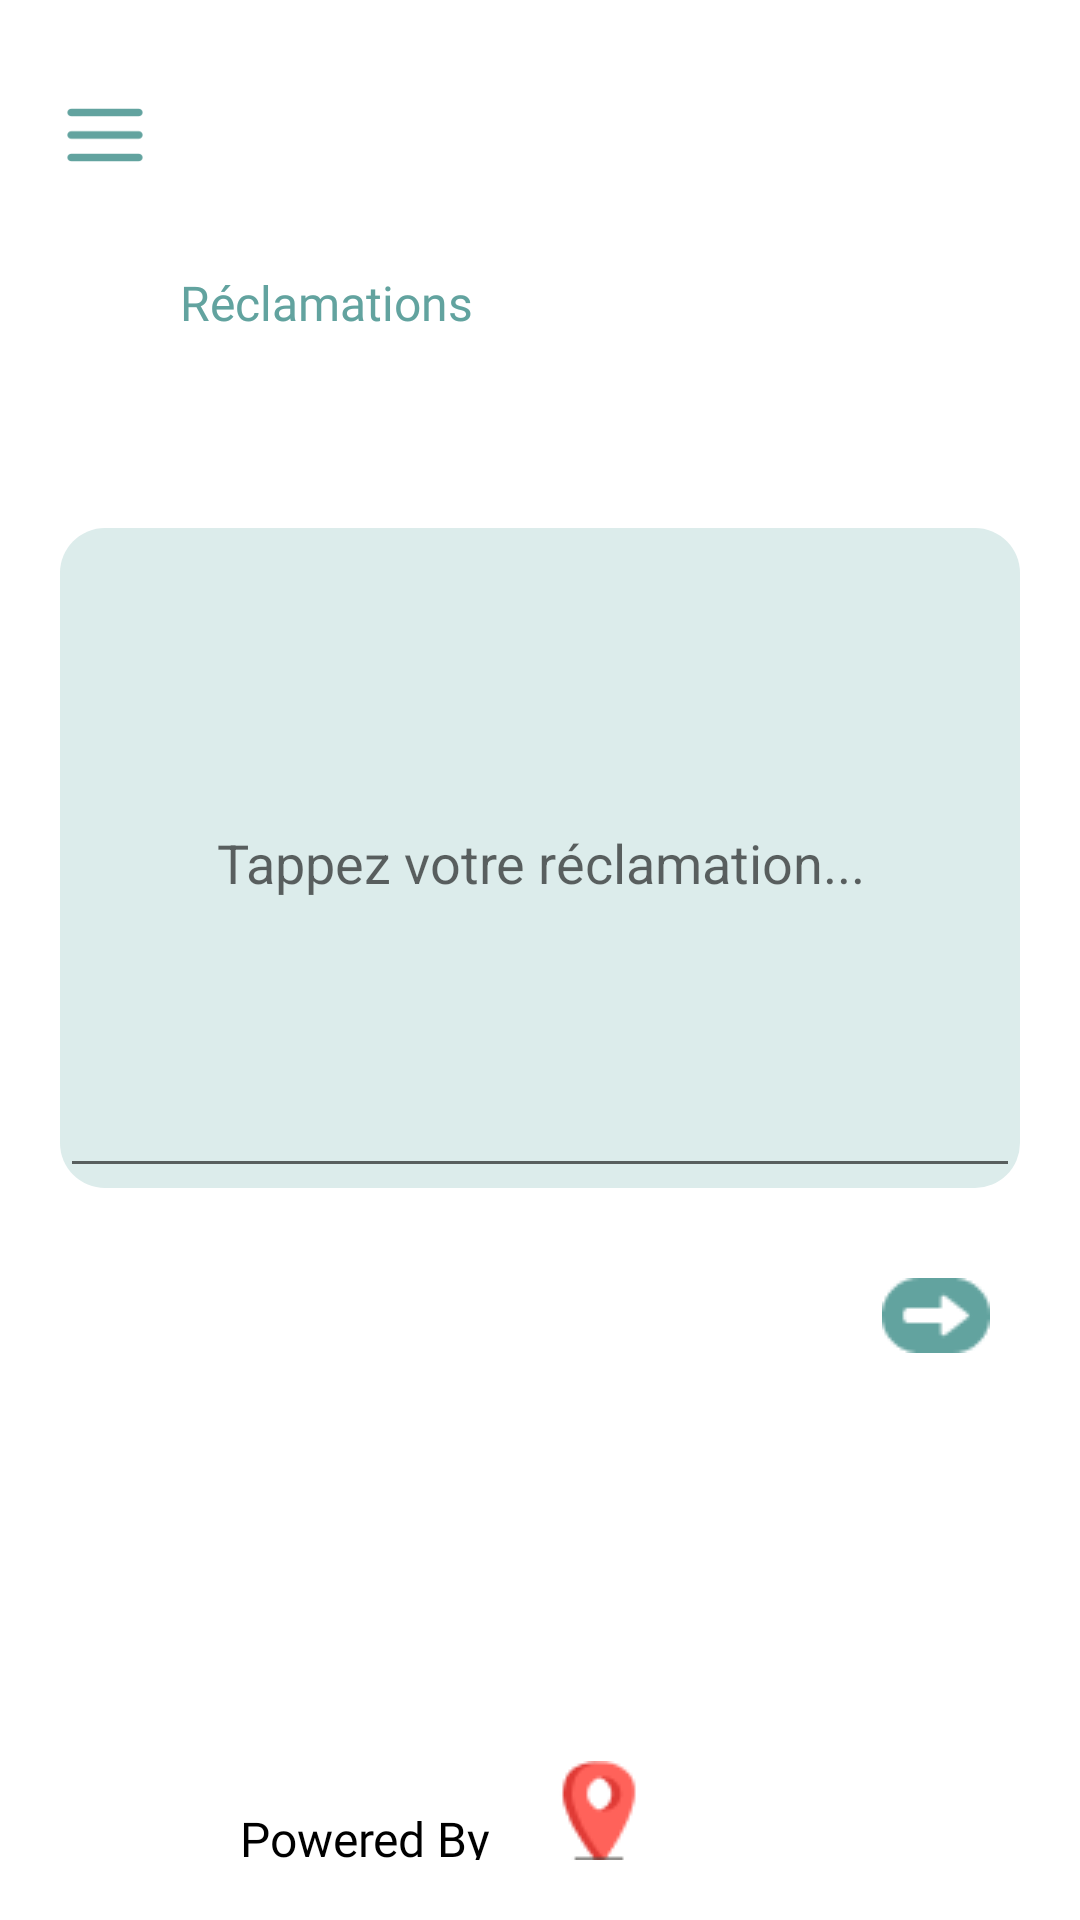

Where icons sit on this 1080 × 1920 app screen, as (x1, y1, x2, y2):
local: (562, 1761, 636, 1860)
menu: (67, 108, 143, 162)
